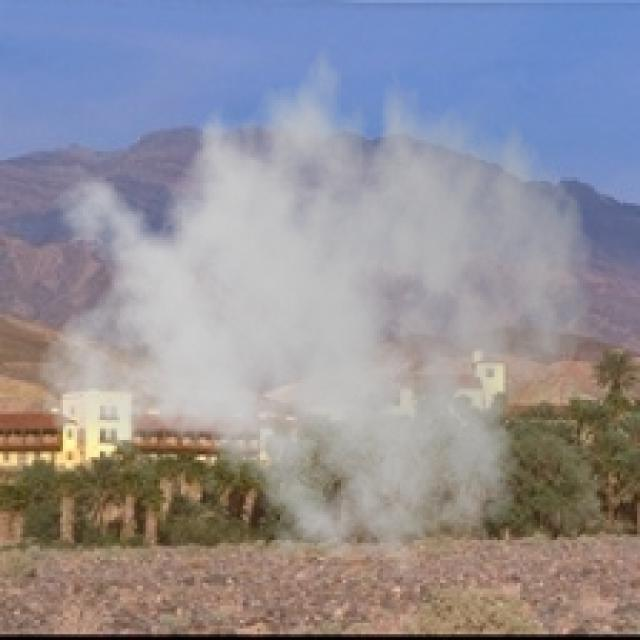smoke: (34, 23, 594, 591)
